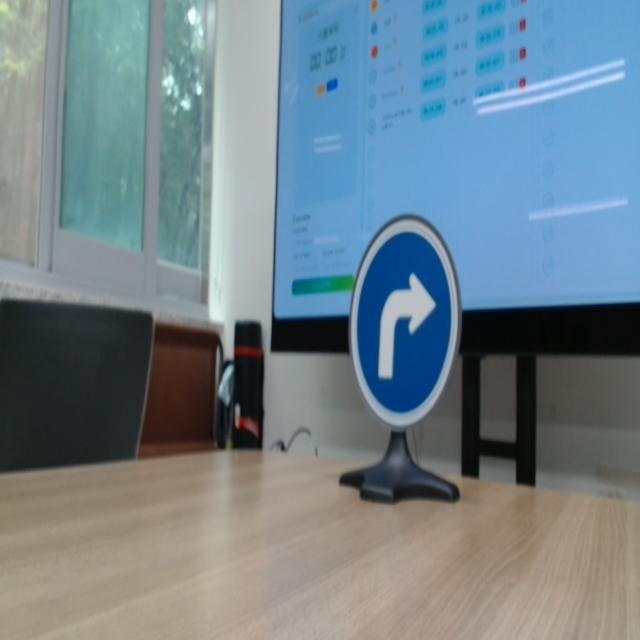right_dierection: (347, 216, 462, 420)
